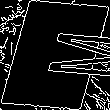M_W: (2, 28, 108, 82)
